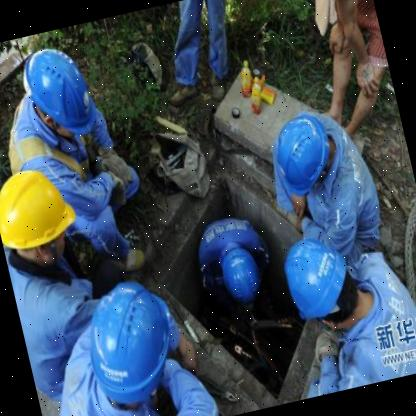capacete: (71, 272, 193, 416), (0, 158, 85, 285), (274, 226, 368, 340), (13, 38, 104, 150), (260, 107, 354, 209), (213, 242, 268, 303)
